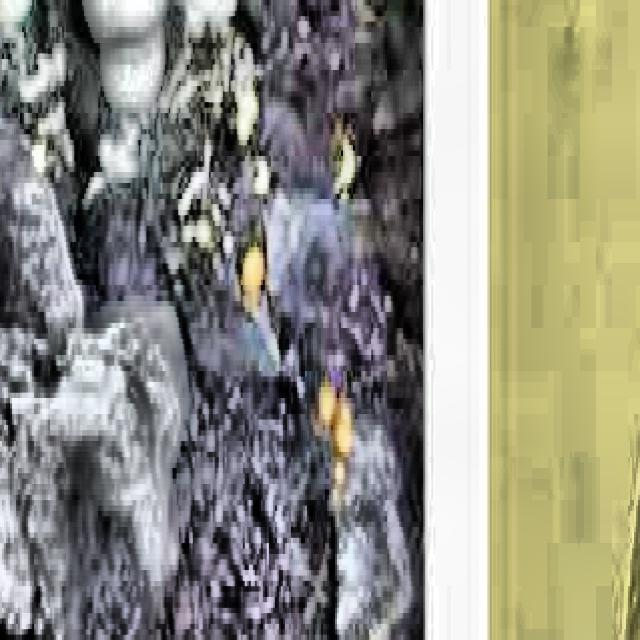Affected: (0, 220, 204, 640)
